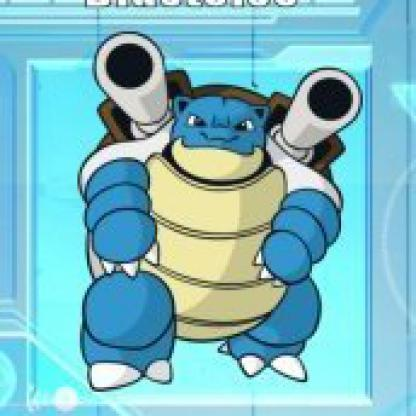Blastoise: (44, 27, 373, 402)
